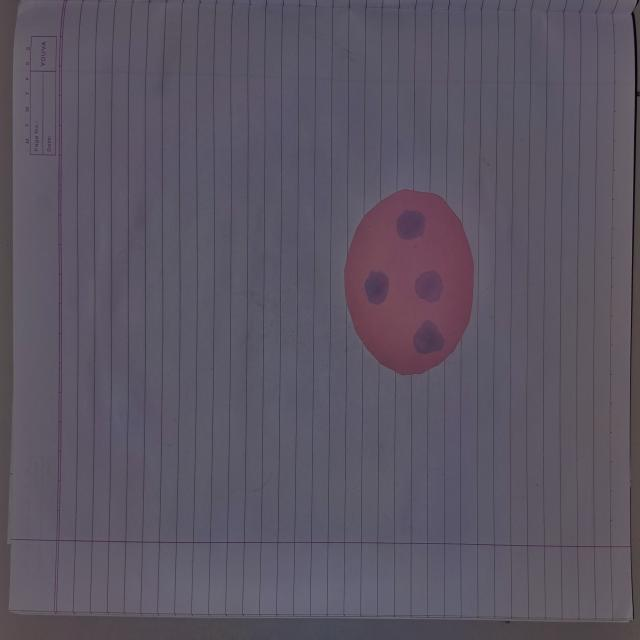BlueColor: (413, 320, 444, 354), (415, 270, 443, 303), (396, 210, 425, 240), (365, 271, 389, 305)
